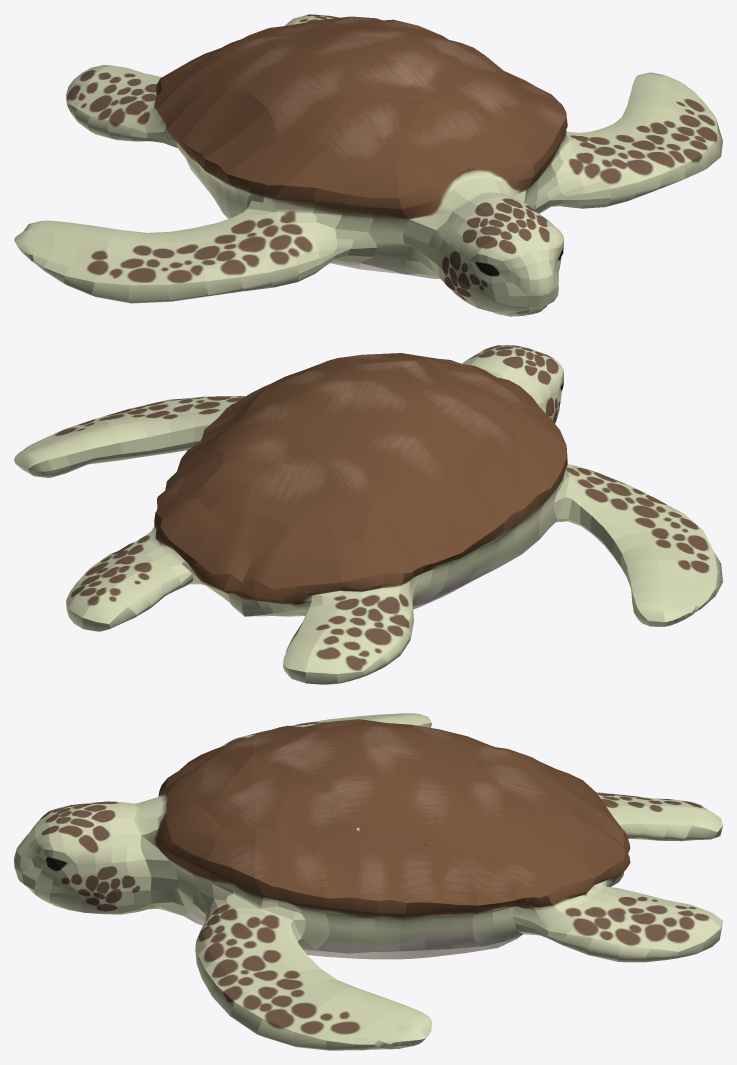
File: turtle.glb
3 renders of one model, top to bottom at view 1: azimuth 30°, elevation 25°; view 2: azimuth 150°, elevation 25°; view 3: azimuth 270°, elevation 25°, orthographic.
Parts seen in each view (by area): view 1: Object_4, Object_3, Object_2; view 2: Object_3, Object_4, Object_2; view 3: Object_3, Object_4, Object_2.
Boxes of the visible parts, x1,y1,x2,y2 form: Object_4: (14,14,722,316); Object_3: (154,16,567,208); Object_2: (200,181,440,278); Object_3: (154,353,567,604); Object_4: (14,345,722,684); Object_2: (285,528,539,616); Object_3: (158,719,630,915); Object_4: (14,713,722,1050); Object_2: (199,924,523,959).
Size of the model in its own units: 23.09 by 6.36 by 21.12.
3 materials, 3 textured.
